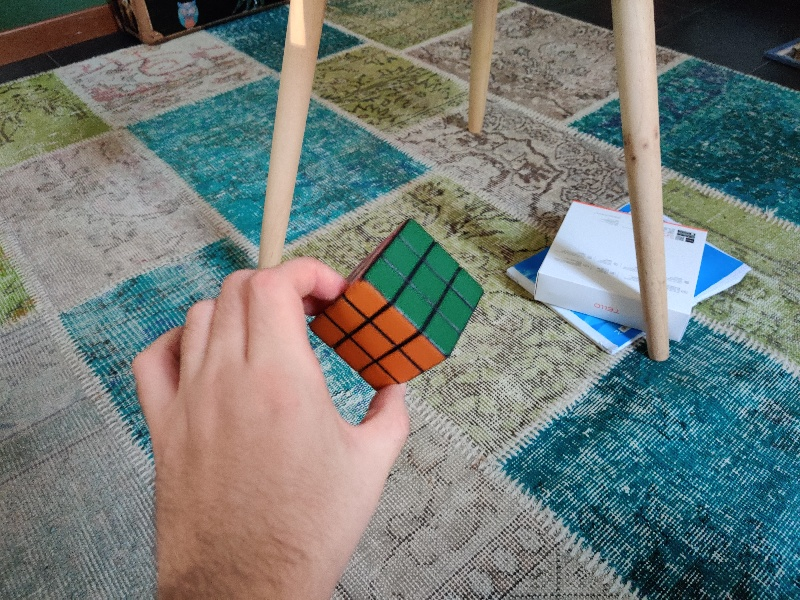rubik: (308, 220, 485, 392)
